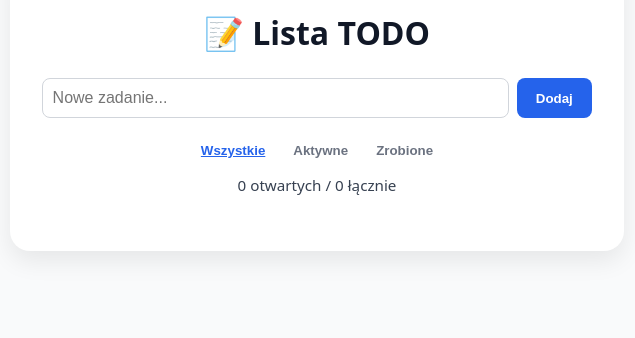
Test: TODO App › dodaje nowe zadanie
The width and height of the screenshot is (635, 338).
Symulujemy wpisanie tekstu „Zrobić testy” do inputa
Type "Zrobić testy" into the field with placeholder "Nowe zadanie..." at (275, 98), box [42,78,509,118]
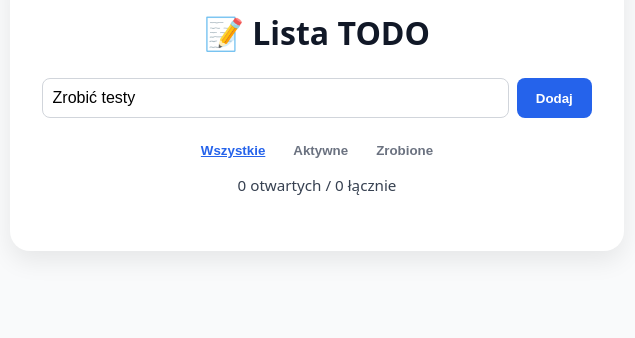
Klikamy przycisk „Dodaj”
Click the button "Dodaj" at (554, 98), box [517,78,592,118]
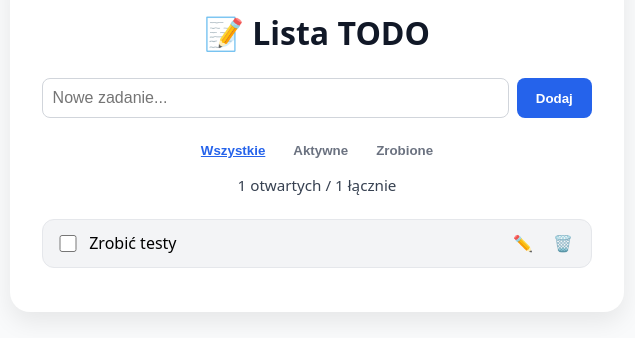
Result: the text "Zrobić testy" is shown at [89,232,176,254]
